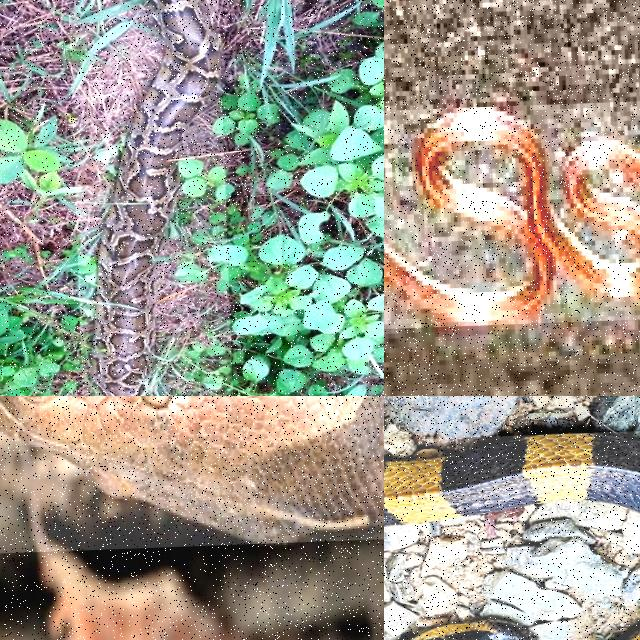Bungarus fasciatus: (384, 434, 639, 525)
Calliophis intestinalis: (384, 107, 639, 325)
Python bivittatus: (0, 396, 383, 542), (92, 0, 221, 395)
snake: (0, 396, 383, 542), (384, 107, 639, 325), (92, 0, 221, 395), (384, 434, 639, 525)
